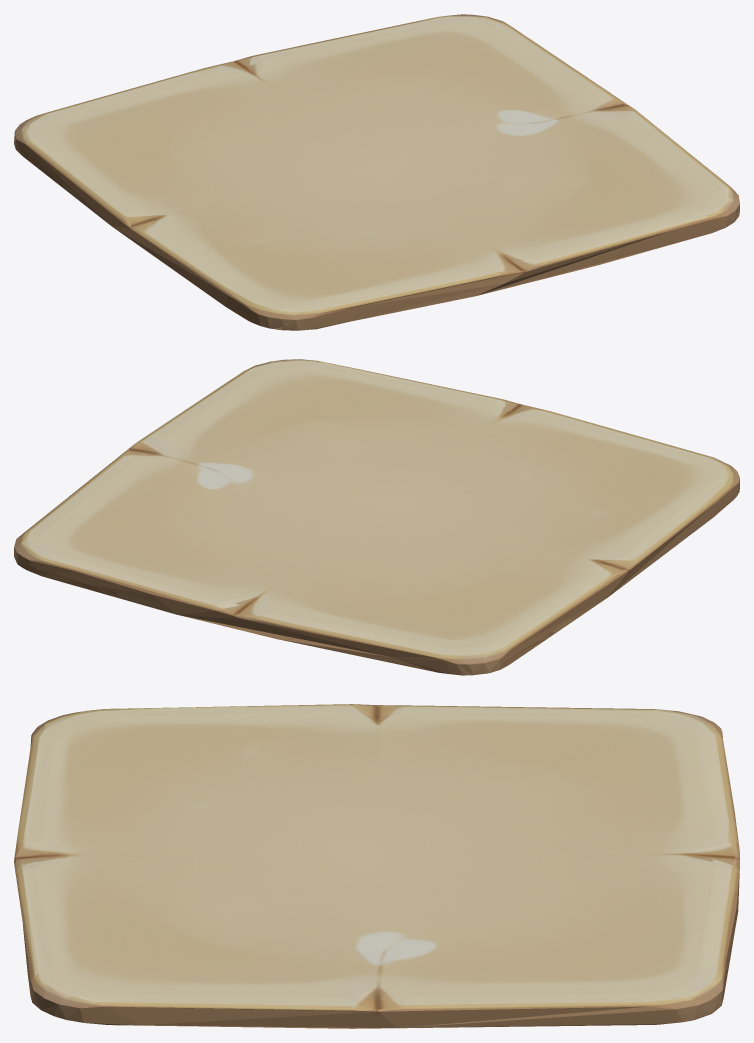
Rendered from baldosa_camino_02.glb.
3 views of the same model, one above another, from view 1: azimuth 30°, elevation 25°; view 2: azimuth 150°, elevation 25°; view 3: azimuth 270°, elevation 25° (orthographic). The views are drawn at different scales.
Parts seen in each view (by area): view 1: BaldosaCamino_02; view 2: BaldosaCamino_02; view 3: BaldosaCamino_02.
Part boxes in pixels (left/top/right/bottom): BaldosaCamino_02: left=14, top=14, right=739, bottom=330; BaldosaCamino_02: left=14, top=359, right=739, bottom=675; BaldosaCamino_02: left=14, top=704, right=739, bottom=1028.
Size of the model in its own units: 0.98 by 0.035 by 0.98.
Materials: 1 (1 with a texture image).
